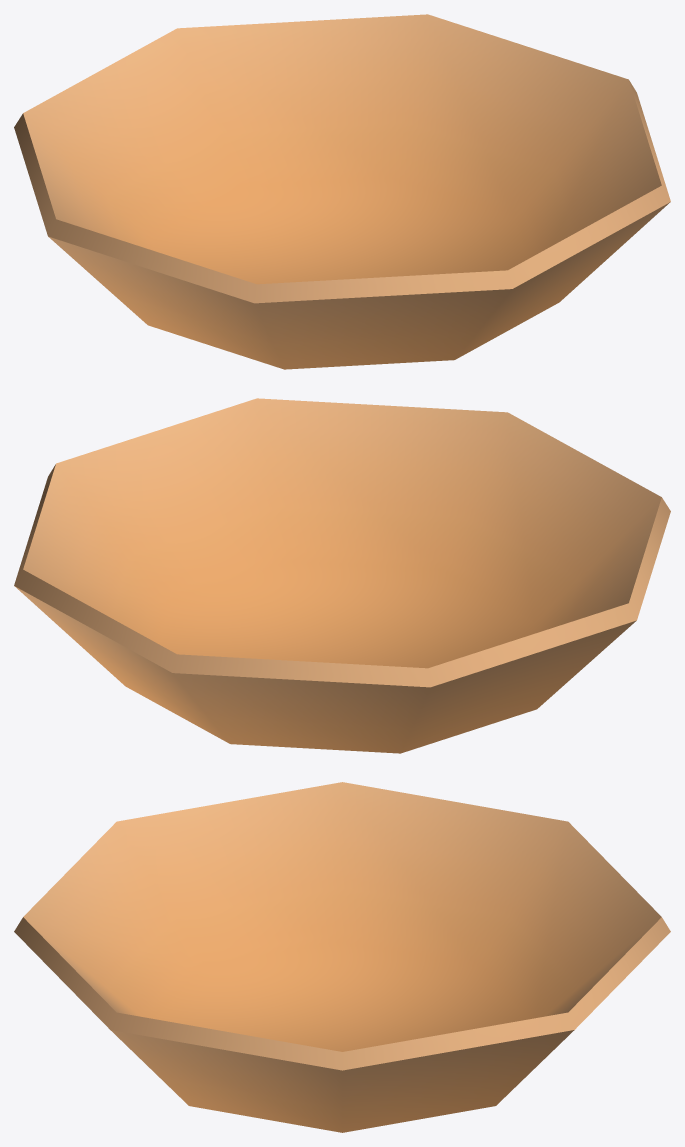
File: Dish3.fbx
The picture shows the model from 3 angles, top to bottom: view 1: azimuth 30°, elevation 25°; view 2: azimuth 150°, elevation 25°; view 3: azimuth 270°, elevation 25°; orthographic projection. The views are drawn at different scales.
Parts seen in each view (by area): view 1: Dish3; view 2: Dish3; view 3: Dish3.
Part boxes in pixels (x1,y1,x2,y2): Dish3: (14,14,670,369); Dish3: (14,398,670,753); Dish3: (14,782,670,1132).
Size of the model in its own units: 75.68 by 15.78 by 75.68.
